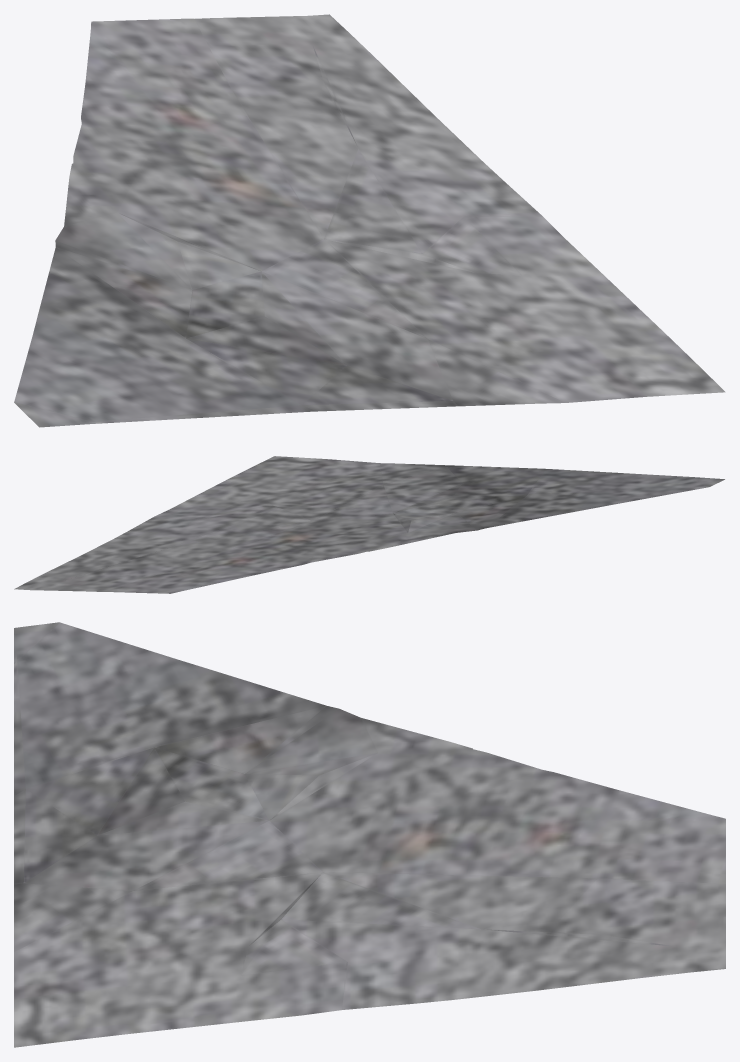
3 views of the same model, one above another, from view 1: azimuth 30°, elevation 25°; view 2: azimuth 150°, elevation 25°; view 3: azimuth 270°, elevation 25° (orthographic). The views are drawn at different scales.
Bounding box in the file's own units: 1.67 × 0.3234 × 1.67.
2 materials, 2 textured.
